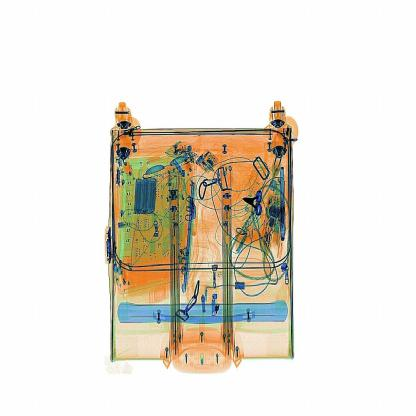gun: (239, 184, 273, 219)
